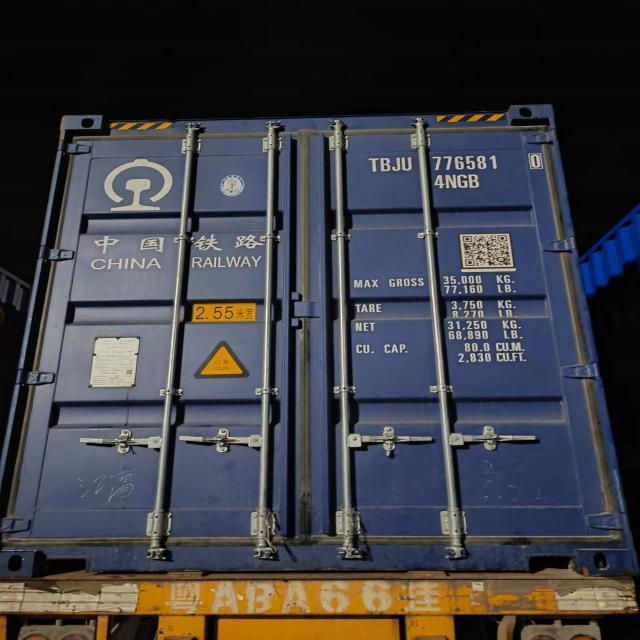ISO: (432, 174, 479, 190)
container_number: (370, 154, 540, 173)
